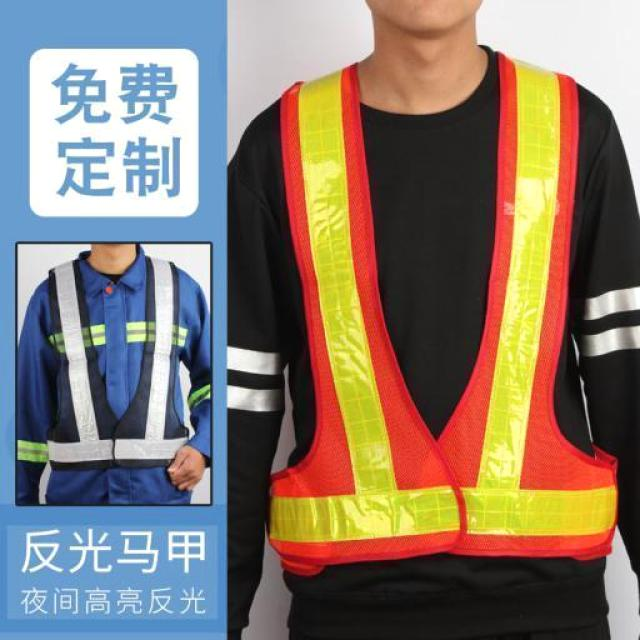hand_noglove: (160, 442, 210, 493)
vest: (262, 49, 622, 567), (42, 254, 182, 471)
